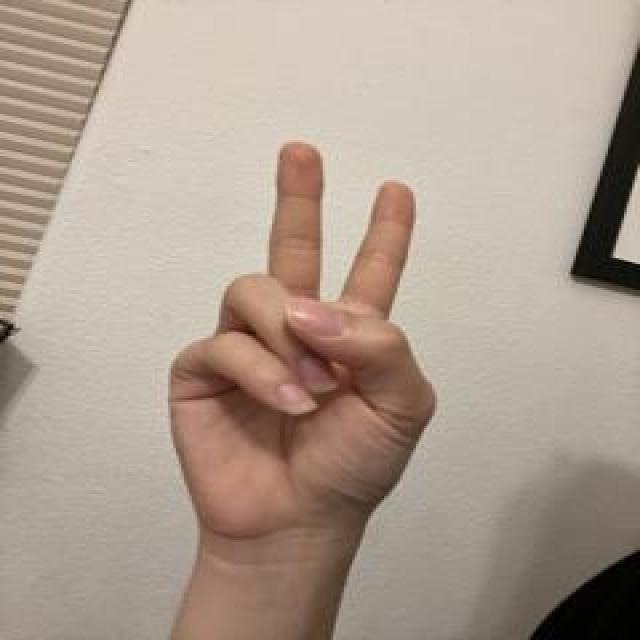V: (164, 138, 447, 544)
